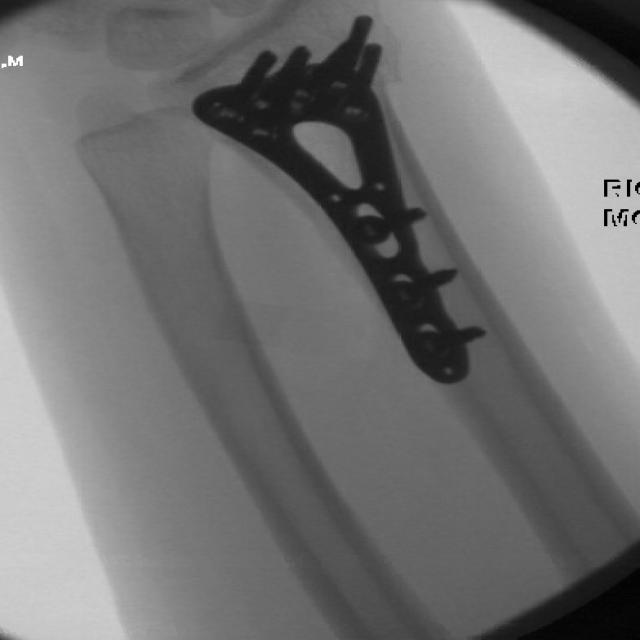x-ray: (168, 9, 518, 391)
